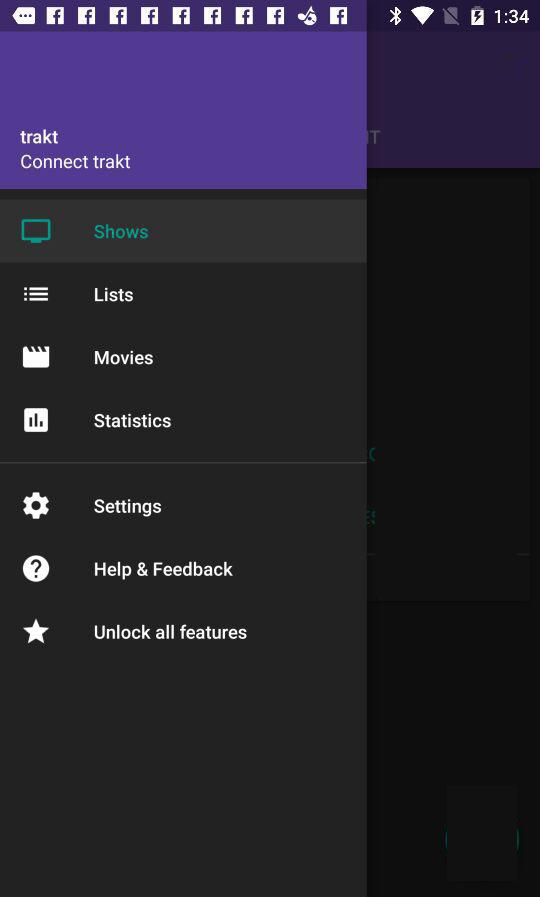Drawer: (1, 33, 367, 897)
Icon: (23, 555, 51, 583), (23, 492, 51, 520), (23, 618, 51, 645), (24, 408, 50, 433), (24, 286, 50, 303)
Image: (21, 218, 53, 245), (23, 346, 51, 370)
Text: (95, 561, 235, 581), (94, 623, 248, 641), (21, 155, 132, 170), (94, 498, 163, 518), (94, 413, 173, 430), (94, 350, 155, 366), (94, 224, 150, 241), (20, 129, 60, 146), (95, 287, 135, 303)
UpperTaskBar: (1, 1, 540, 33)
